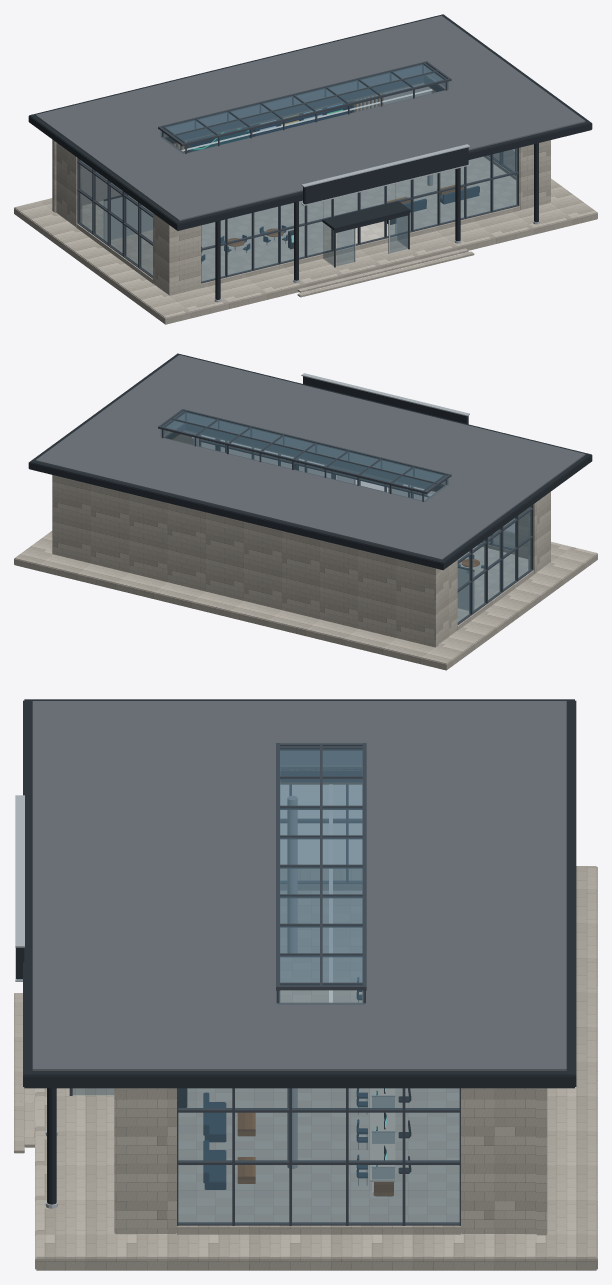
Rendered from trading_hall.glb.
The picture shows the model from 3 angles, top to bottom: view 1: azimuth 30°, elevation 25°; view 2: azimuth 150°, elevation 25°; view 3: azimuth 270°, elevation 25°; orthographic projection. The views are drawn at different scales.
Parts seen in each view (by area): view 1: Mat_HallRoof, Mat_HallStone, Mat_ClearGlass, Mat_SlateFrame, Mat_Terrazzo, Mat_AlumMullion, Mat_SteelTrim, Mat_Emissive_Board, Mat_HallWall, Mat_FrostedGlass, Mat_LoungeSofa, Mat_CedarSoffit (+1 smaller); view 2: Mat_HallRoof, Mat_HallStone, Mat_ClearGlass, Mat_SlateFrame, Mat_AlumMullion, Mat_Terrazzo, Mat_SteelTrim, Mat_FrostedGlass; view 3: Mat_HallRoof, Mat_HallStone, Mat_ClearGlass, Mat_Terrazzo, Mat_SlateFrame, Mat_AlumMullion, Mat_SteelTrim, Mat_LoungeSofa, Mat_CedarSoffit, Mat_CounterTop, Mat_FrostedGlass, Mat_Emissive_Warm.
Boxes of the visible parts, x1=… form: Mat_HallRoof: x1=35, y1=15, x2=585, y2=220; Mat_HallStone: x1=14, y1=90, x2=597, y2=324; Mat_ClearGlass: x1=79, y1=63, x2=517, y2=281; Mat_SlateFrame: x1=28, y1=14, x2=592, y2=299; Mat_Terrazzo: x1=82, y1=156, x2=516, y2=281; Mat_AlumMullion: x1=77, y1=61, x2=519, y2=283; Mat_SteelTrim: x1=201, y1=144, x2=539, y2=302; Mat_Emissive_Board: x1=190, y1=101, x2=352, y2=151; Mat_HallWall: x1=82, y1=83, x2=431, y2=204; Mat_FrostedGlass: x1=104, y1=195, x2=152, y2=240; Mat_LoungeSofa: x1=201, y1=186, x2=479, y2=261; Mat_CedarSoffit: x1=172, y1=82, x2=463, y2=246; Mat_HallRoof: x1=35, y1=355, x2=585, y2=560; Mat_HallStone: x1=14, y1=431, x2=597, y2=670; Mat_ClearGlass: x1=160, y1=411, x2=531, y2=622; Mat_SlateFrame: x1=28, y1=353, x2=592, y2=570; Mat_AlumMullion: x1=158, y1=409, x2=533, y2=624; Mat_Terrazzo: x1=457, y1=545, x2=528, y2=621; Mat_SteelTrim: x1=192, y1=373, x2=483, y2=569; Mat_FrostedGlass: x1=458, y1=568, x2=474, y2=610; Mat_HallRoof: x1=32, y1=701, x2=566, y2=1070; Mat_HallStone: x1=14, y1=866, x2=597, y2=1270; Mat_ClearGlass: x1=72, y1=746, x2=459, y2=1223; Mat_Terrazzo: x1=178, y1=891, x2=459, y2=1222; Mat_SlateFrame: x1=16, y1=699, x2=576, y2=1204; Mat_AlumMullion: x1=69, y1=743, x2=460, y2=1225; Mat_SteelTrim: x1=15, y1=795, x2=395, y2=1208; Mat_LoungeSofa: x1=203, y1=977, x2=367, y2=1189; Mat_CedarSoffit: x1=237, y1=782, x2=393, y2=1195; Mat_CounterTop: x1=370, y1=1088, x2=395, y2=1181; Mat_FrostedGlass: x1=372, y1=1097, x2=394, y2=1179; Mat_Emissive_Warm: x1=329, y1=784, x2=373, y2=1191.
Size of the model in its own units: 38.6 by 9.62 by 24.27.
17 materials, 5 textured.
